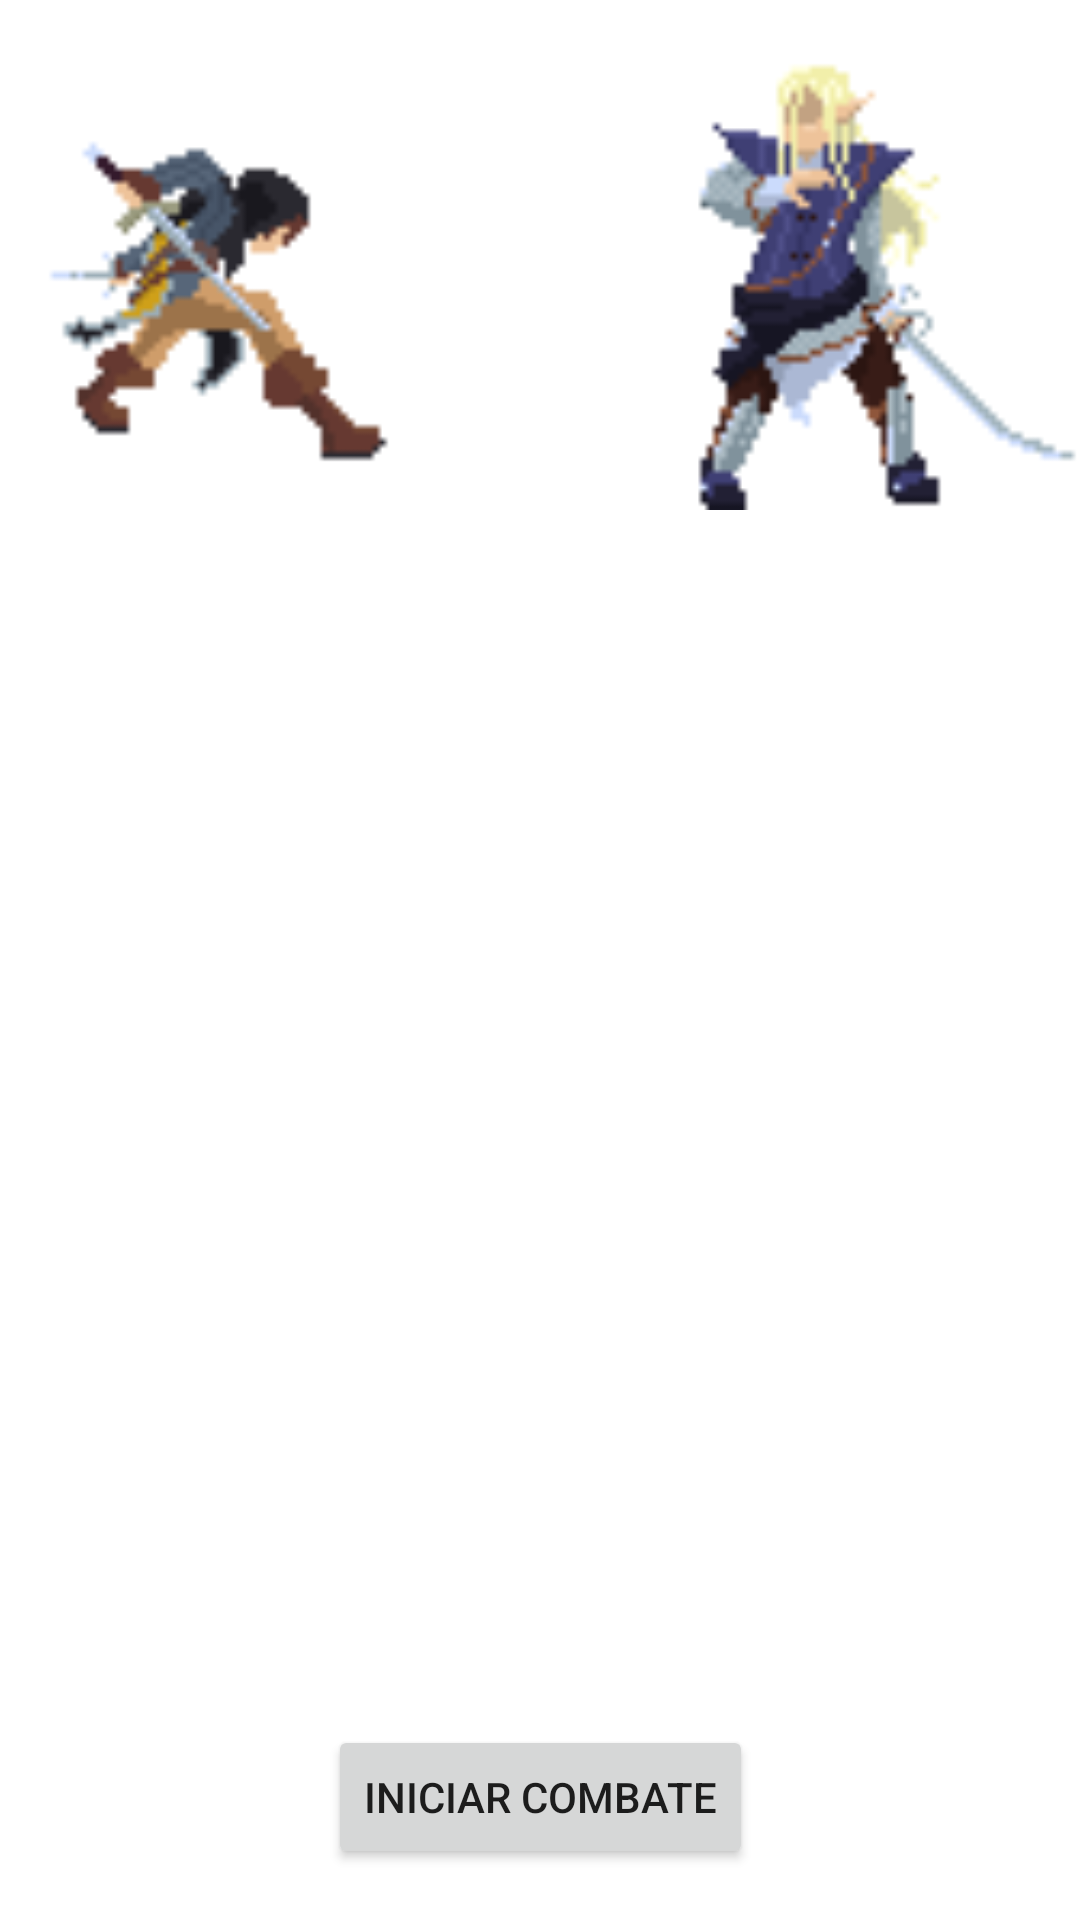

Named icons in this screenshot (1080 x 1920) and their bounding boxes, (x1, y1, x2, y2):
rogue human: (51, 144, 388, 461)
